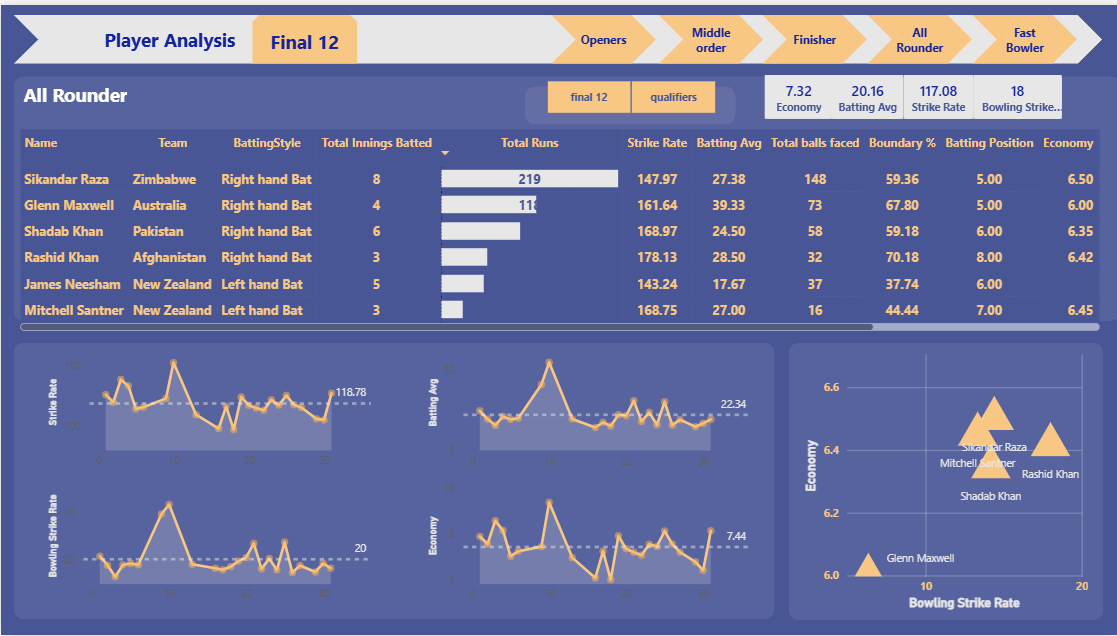

The page's visual inventory and layout, read from the dashboard file:
{"tool":"powerbi","page":{"name":"All rounder ","canvas":[1280,720],"ordinal":3},"visuals":[{"type":"shape","box":[13.8,81.2,1266.2,280],"z":0},{"type":"shape","box":[900,385,360,317.5],"z":1000},{"type":"tableEx","fields":{"Values":["dim_players.name","dim_players.team","dim_players.battingStyle","key measures.Total Innings Batted","key measures.Total Runs","key measures.Strike Rate","key measures.Batting Avg","key measures.total balls faced","key measures.Boundary %","key measures.Batting Position","key measures.Economy","key measures.wickets"]},"box":[15,136.7,1245,240],"z":2000},{"type":"scatterChart","title":"Economy Vs Bowling Strike Rate","fields":{"Category":["dim_players.name"],"X":["key measures.Bowling Strike Rate"],"Y":["key measures.Economy"]},"box":[912.2,386.7,334.4,308.9],"z":3000},{"type":"shape","box":[598.8,92.5,241.2,43.8],"z":4000},{"type":"slicer","fields":{"Values":["dim_match_summary.stage"]},"box":[598.6,80,241.4,50],"z":5000},{"type":"cardVisual","fields":{"Data":["key measures.Strike Rate"]},"box":[1031.4,80,80,50],"z":6000},{"type":"cardVisual","fields":{"Data":["key measures.Batting Avg"]},"box":[950,80,81.1,50],"z":7000},{"type":"cardVisual","fields":{"Data":["key measures.Bowling Strike Rate"]},"box":[1111.1,80,101.1,50],"z":8000},{"type":"cardVisual","fields":{"Data":["key measures.Economy"]},"box":[872.2,80,78.9,50],"z":9000},{"type":"shape","box":[25,73.8,140,56.2],"z":10000},{"type":"shape","box":[14.3,11.4,1244.3,55.7],"z":11000},{"type":"shape","box":[751.4,11.4,120,55.7],"z":12000},{"type":"shape","box":[870,11.4,120,55.7],"z":13000},{"type":"shape","box":[990,11.4,120,55.7],"z":14000},{"type":"shape","box":[1110,11.4,120,55.7],"z":15000},{"type":"shape","box":[628.6,11.4,120,55.7],"z":16000},{"type":"shape","box":[287.1,11.4,120,55.7],"z":17000},{"type":"shape","box":[114.3,11.4,157.1,55.7],"z":18000},{"type":"shape","box":[13.8,385,870,316.2],"z":19000},{"type":"areaChart","fields":{"Y":["key measures.Strike Rate"],"Category":["dim_match_summary.matchDate.Variation.Date Hierarchy.Day"]},"box":[48.8,386.2,378.8,152.5],"z":20000},{"type":"areaChart","fields":{"Category":["dim_match_summary.matchDate.Variation.Date Hierarchy.Day"],"Y":["key measures.Bowling Strike Rate"]},"box":[48.8,538.8,378.8,152.5],"z":21000},{"type":"areaChart","fields":{"Category":["dim_match_summary.matchDate.Variation.Date Hierarchy.Day"],"Y":["key measures.Economy"]},"box":[482.5,538.8,378.8,152.5],"z":22000},{"type":"areaChart","fields":{"Category":["dim_match_summary.matchDate.Variation.Date Hierarchy.Day"],"Y":["key measures.Batting Avg"]},"box":[482.5,385,378.8,153.8],"z":23000}]}

Visuals, with their boxes in screenshot pixels (x1, y1, x2, y2), scaled from the page's 1280x720 canvas onto the 1117x636 screenshot:
shape: x1=12 y1=72 x2=1116 y2=319
shape: x1=785 y1=340 x2=1100 y2=621
tableEx - dim_players.name x dim_players.team: x1=13 y1=121 x2=1100 y2=333
"Economy Vs Bowling Strike Rate" scatterChart: x1=796 y1=342 x2=1088 y2=614
shape: x1=523 y1=82 x2=733 y2=120
slicer - dim_match_summary.stage: x1=522 y1=71 x2=733 y2=115
cardVisual - key measures.Strike Rate: x1=900 y1=71 x2=970 y2=115
cardVisual - key measures.Batting Avg: x1=829 y1=71 x2=900 y2=115
cardVisual - key measures.Bowling Strike Rate: x1=970 y1=71 x2=1058 y2=115
cardVisual - key measures.Economy: x1=761 y1=71 x2=830 y2=115
shape: x1=22 y1=65 x2=144 y2=115
shape: x1=12 y1=10 x2=1098 y2=59
shape: x1=656 y1=10 x2=760 y2=59
shape: x1=759 y1=10 x2=864 y2=59
shape: x1=864 y1=10 x2=969 y2=59
shape: x1=969 y1=10 x2=1073 y2=59
shape: x1=549 y1=10 x2=653 y2=59
shape: x1=251 y1=10 x2=355 y2=59
shape: x1=100 y1=10 x2=237 y2=59
shape: x1=12 y1=340 x2=771 y2=619
areaChart - key measures.Strike Rate x dim_match_summary.matchDate.Variation.Date Hierarchy.Day: x1=43 y1=341 x2=373 y2=476
areaChart - dim_match_summary.matchDate.Variation.Date Hierarchy.Day x key measures.Bowling Strike Rate: x1=43 y1=476 x2=373 y2=611
areaChart - dim_match_summary.matchDate.Variation.Date Hierarchy.Day x key measures.Economy: x1=421 y1=476 x2=752 y2=611
areaChart - dim_match_summary.matchDate.Variation.Date Hierarchy.Day x key measures.Batting Avg: x1=421 y1=340 x2=752 y2=476
